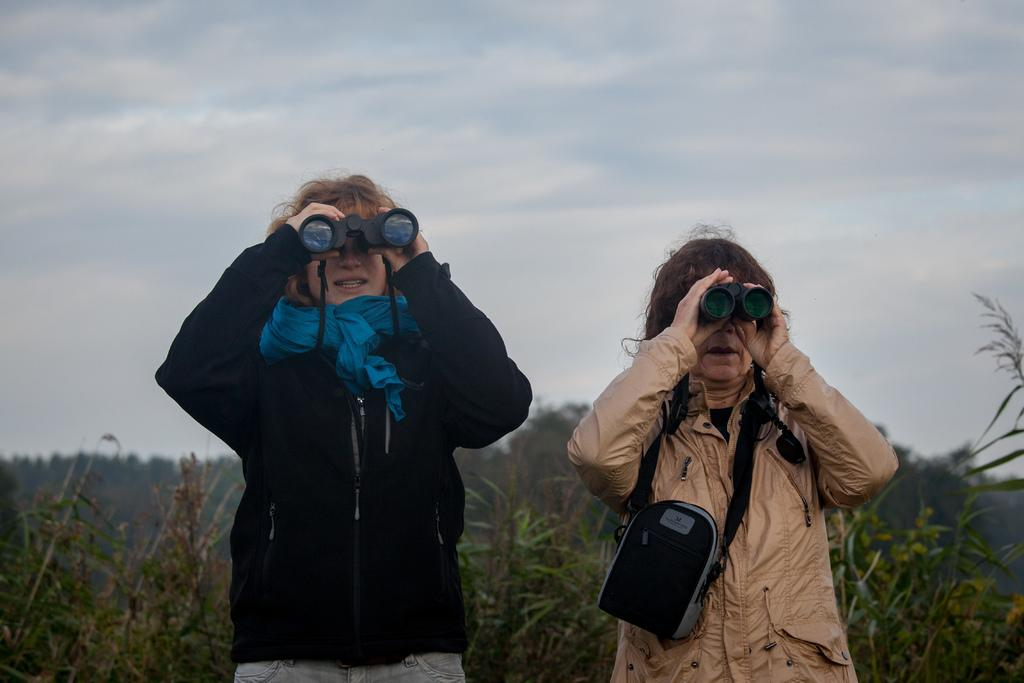Luggage-and-bags: (621, 509, 739, 610)
